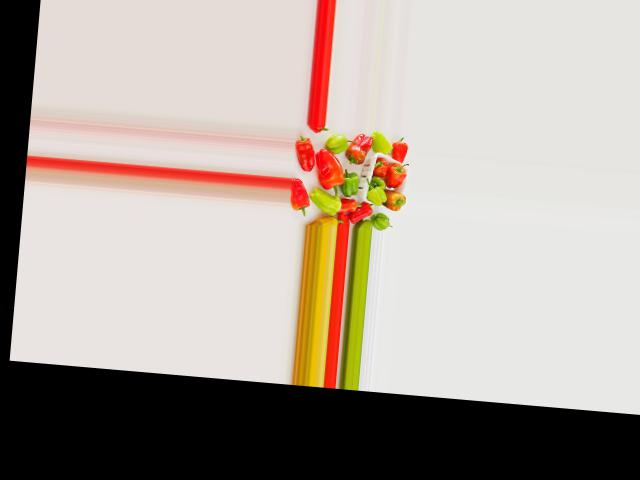bell_pepper: (288, 182, 314, 217)
